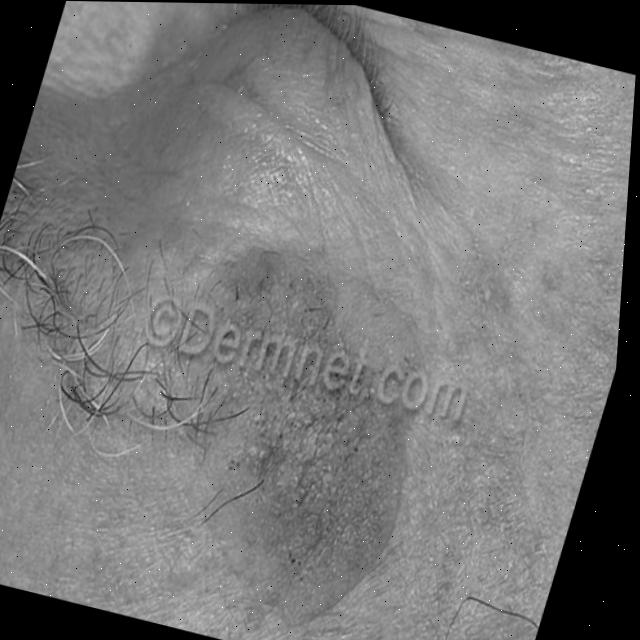Eczema: (162, 254, 460, 600)
